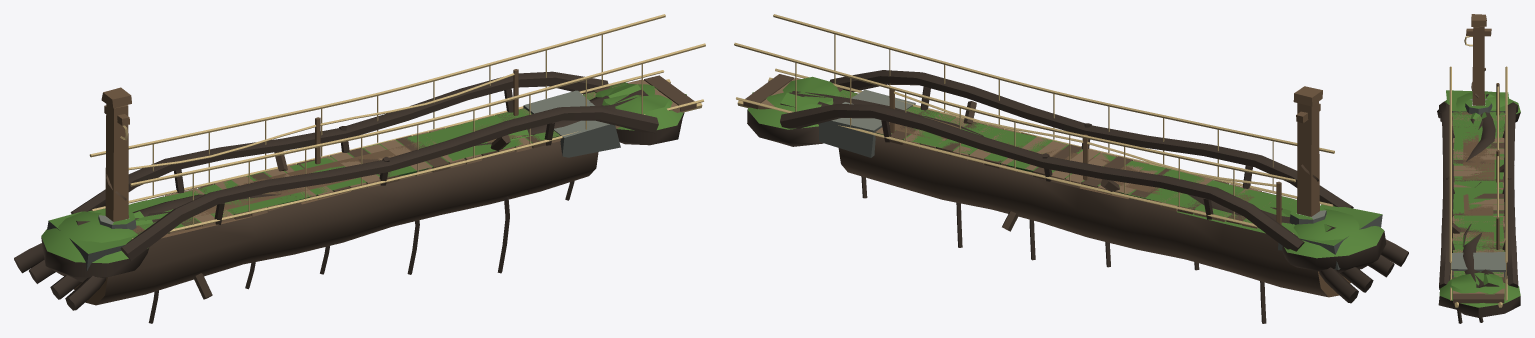
The model's file is JadeGrove_Bridges.fbx.
The picture shows the model from 3 angles, left to right: view 1: azimuth 30°, elevation 25°; view 2: azimuth 150°, elevation 25°; view 3: azimuth 270°, elevation 25°; orthographic projection. The views are drawn at different scales.
Visible parts, largest first — view 1: JG_Bridge_LogSpan_B1__Trunk, JG_Bridge_RootSpan_B3__Root, JG_Bridge_RootSpan_B3__Moss, JG_Bridge_RopeSpan_B2__Cord, JG_Bridge_RopeSpan_B2__Plank, JG_Bridge_RopePost_B2P__Timber, JG_Bridge_LogSpan_B1__Timber, JG_Bridge_RopeSpan_B2__PlankDark, JG_Bridge_LogSpan_B1__Root, JG_Bridge_LogSpan_B1__StoneDark, JG_Bridge_LogSpan_B1__Stone, JG_Bridge_LogSpan_B1__Cord (+1 smaller); view 2: JG_Bridge_LogSpan_B1__Trunk, JG_Bridge_RootSpan_B3__Root, JG_Bridge_RootSpan_B3__Moss, JG_Bridge_RopeSpan_B2__Cord, JG_Bridge_RopeSpan_B2__Plank, JG_Bridge_RopePost_B2P__Timber, JG_Bridge_RopeSpan_B2__PlankDark, JG_Bridge_LogSpan_B1__Root, JG_Bridge_LogSpan_B1__StoneDark, JG_Bridge_LogSpan_B1__Timber, JG_Bridge_LogSpan_B1__Moss, JG_Bridge_LogSpan_B1__Cord (+1 smaller); view 3: JG_Bridge_RootSpan_B3__Root, JG_Bridge_RootSpan_B3__Moss, JG_Bridge_LogSpan_B1__Timber, JG_Bridge_RopeSpan_B2__Plank, JG_Bridge_RopeSpan_B2__Cord, JG_Bridge_RopePost_B2P__Timber, JG_Bridge_RopeSpan_B2__PlankDark, JG_Bridge_LogSpan_B1__Moss, JG_Bridge_LogSpan_B1__Stone, JG_Bridge_LogSpan_B1__Cord, JG_Bridge_RopePost_B2P__StoneDark, JG_Bridge_LogSpan_B1__StoneDark (+2 smaller).
Boxes of the visible parts, x1,y1,x2,y2 form: JG_Bridge_LogSpan_B1__Trunk: [96, 135, 598, 305]; JG_Bridge_RootSpan_B3__Root: [41, 71, 684, 323]; JG_Bridge_RootSpan_B3__Moss: [41, 82, 686, 263]; JG_Bridge_RopeSpan_B2__Cord: [89, 14, 705, 239]; JG_Bridge_RopeSpan_B2__Plank: [134, 79, 680, 233]; JG_Bridge_RopePost_B2P__Timber: [101, 87, 131, 221]; JG_Bridge_LogSpan_B1__Timber: [74, 69, 526, 305]; JG_Bridge_RopeSpan_B2__PlankDark: [134, 75, 696, 234]; JG_Bridge_LogSpan_B1__Root: [14, 243, 105, 310]; JG_Bridge_LogSpan_B1__StoneDark: [47, 105, 620, 271]; JG_Bridge_LogSpan_B1__Stone: [524, 90, 609, 137]; JG_Bridge_LogSpan_B1__Cord: [128, 73, 514, 169]; JG_Bridge_LogSpan_B1__Trunk: [838, 101, 1328, 297]; JG_Bridge_RootSpan_B3__Root: [747, 70, 1386, 323]; JG_Bridge_RootSpan_B3__Moss: [747, 76, 1384, 258]; JG_Bridge_RopeSpan_B2__Cord: [734, 14, 1334, 233]; JG_Bridge_RopeSpan_B2__Plank: [759, 78, 1294, 228]; JG_Bridge_RopePost_B2P__Timber: [1293, 86, 1322, 216]; JG_Bridge_RopeSpan_B2__PlankDark: [743, 74, 1273, 224]; JG_Bridge_LogSpan_B1__Root: [1319, 239, 1408, 303]; JG_Bridge_LogSpan_B1__StoneDark: [819, 103, 1382, 270]; JG_Bridge_LogSpan_B1__Timber: [889, 89, 1350, 297]; JG_Bridge_LogSpan_B1__Moss: [945, 126, 1382, 245]; JG_Bridge_LogSpan_B1__Cord: [894, 91, 1276, 186]; JG_Bridge_RootSpan_B3__Root: [1438, 94, 1520, 323]; JG_Bridge_RootSpan_B3__Moss: [1439, 91, 1520, 307]; JG_Bridge_LogSpan_B1__Timber: [1452, 83, 1499, 252]; JG_Bridge_RopeSpan_B2__Plank: [1452, 115, 1505, 297]; JG_Bridge_RopeSpan_B2__Cord: [1449, 66, 1507, 307]; JG_Bridge_RopePost_B2P__Timber: [1466, 14, 1491, 105]; JG_Bridge_RopeSpan_B2__PlankDark: [1452, 111, 1505, 303]; JG_Bridge_LogSpan_B1__Moss: [1446, 90, 1509, 232]; JG_Bridge_LogSpan_B1__Stone: [1451, 252, 1505, 269]; JG_Bridge_LogSpan_B1__Cord: [1497, 86, 1498, 217]; JG_Bridge_RopePost_B2P__StoneDark: [1465, 103, 1492, 114]; JG_Bridge_LogSpan_B1__StoneDark: [1451, 111, 1505, 278].
Bounding box in the file's own units: 39.11 × 15.04 × 6.34.
